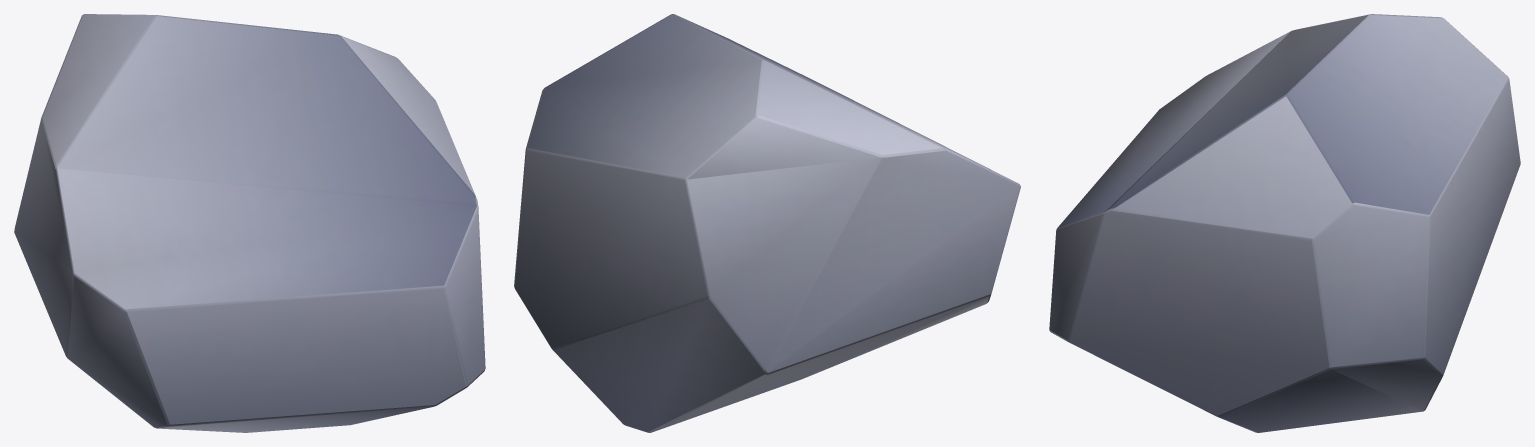
The model's file is Rock4_2.fbx.
3 views of the same model, side by side, from view 1: azimuth 30°, elevation 25°; view 2: azimuth 150°, elevation 25°; view 3: azimuth 270°, elevation 25° (orthographic). The views are drawn at different scales.
Parts seen in each view (by area): view 1: Rock4_2.002, Rock4_2.001, Rock4_2.003, Rock4_2.014, Rock4_2.018, Rock4_2.016, Rock4_2.013, Rock4_2.012, Rock4_2.004; view 2: Rock4_2.016, Rock4_2.015, Rock4_2, Rock4_2.017, Rock4_2.014, Rock4_2.020, Rock4_2.019, Rock4_2.002, Rock4_2.001; view 3: Rock4_2.012, Rock4_2, Rock4_2.013, Rock4_2.011, Rock4_2.015, Rock4_2.002, Rock4_2.001, Rock4_2.008, Rock4_2.010.
Boxes of the visible parts, x1,y1,x2,y2 form: Rock4_2.002: (57, 16, 476, 206); Rock4_2.001: (57, 168, 476, 309); Rock4_2.003: (125, 285, 465, 424); Rock4_2.014: (41, 14, 156, 168); Rock4_2.018: (67, 273, 169, 427); Rock4_2.016: (14, 118, 74, 356); Rock4_2.013: (338, 34, 476, 199); Rock4_2.012: (444, 121, 485, 386); Rock4_2.004: (154, 405, 436, 432); Rock4_2.016: (687, 149, 1020, 372); Rock4_2.015: (514, 148, 709, 349); Rock4_2: (527, 14, 989, 367); Rock4_2.017: (553, 298, 767, 432); Rock4_2.014: (755, 60, 945, 157); Rock4_2.020: (687, 118, 879, 179); Rock4_2.019: (652, 294, 990, 432); Rock4_2.002: (675, 14, 930, 141); Rock4_2.001: (740, 44, 1019, 184); Rock4_2.012: (1049, 209, 1329, 415); Rock4_2: (1286, 15, 1507, 214); Rock4_2.013: (1111, 94, 1354, 238); Rock4_2.011: (1312, 202, 1430, 367); Rock4_2.015: (1425, 77, 1520, 375); Rock4_2.002: (1105, 15, 1368, 211); Rock4_2.001: (1057, 31, 1290, 227); Rock4_2.008: (1218, 368, 1422, 432); Rock4_2.010: (1330, 357, 1443, 411).
Size of the model in its own units: 0.6516 by 0.5496 by 0.6768.
